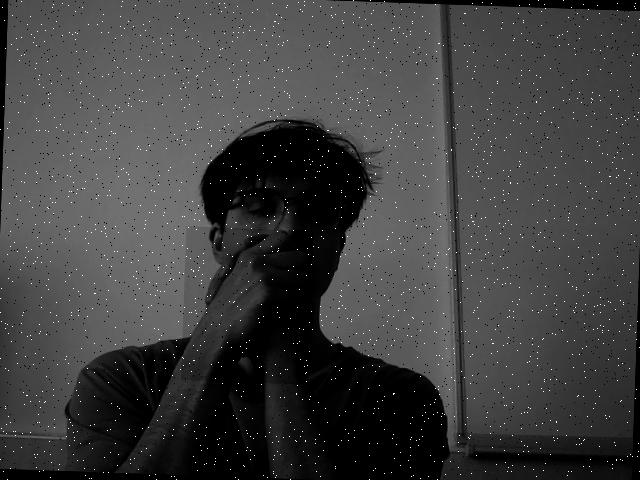friend: (182, 231, 312, 384)
